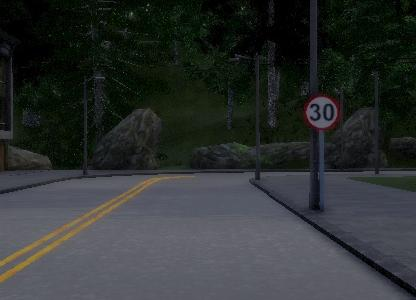Speed_30: (303, 91, 341, 134)
